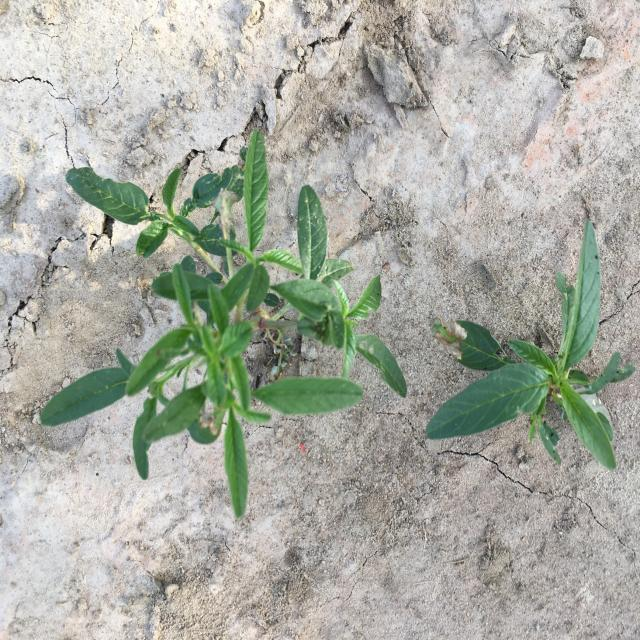Waterhemp: (38, 130, 408, 519), (426, 219, 636, 472)
